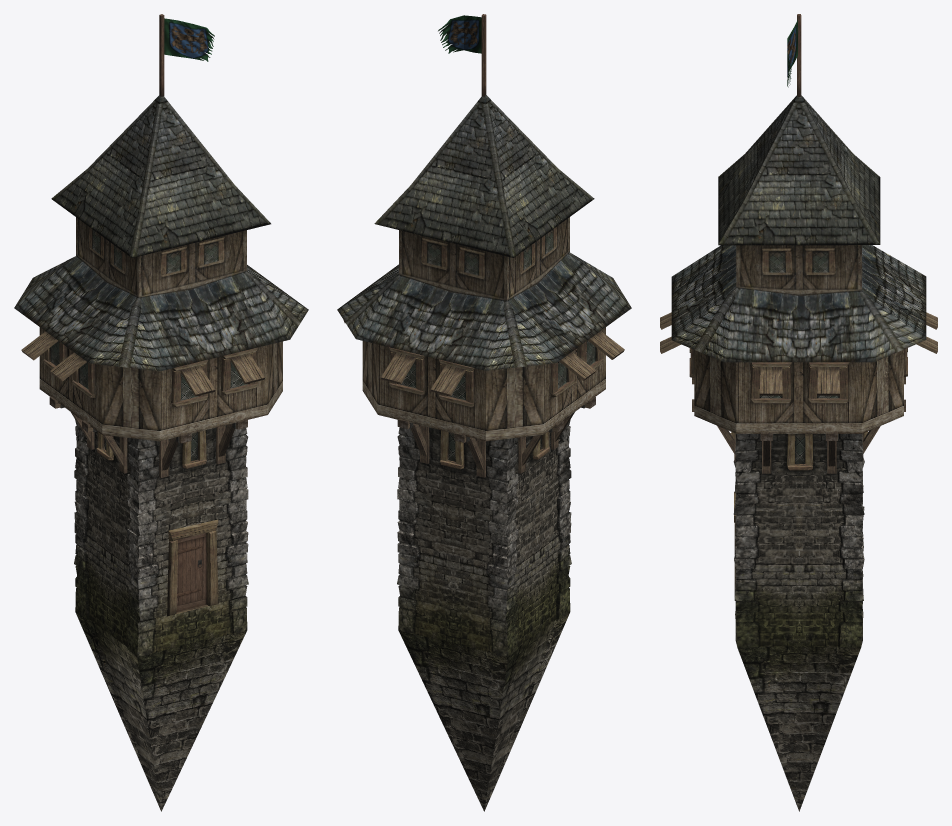
The model's file is freedomTower.dae.
3 views of the same model, side by side, from view 1: azimuth 30°, elevation 25°; view 2: azimuth 150°, elevation 25°; view 3: azimuth 270°, elevation 25° (orthographic).
Visible parts, largest first — view 1: Main, Detail; view 2: Main, Detail; view 3: Main, Detail.
Part boxes in pixels (box(x1,y1,x2,y2)): Main: box(14, 95, 308, 811); Detail: box(21, 14, 264, 616); Main: box(337, 95, 631, 811); Detail: box(343, 14, 624, 477); Main: box(671, 95, 926, 811); Detail: box(660, 14, 937, 596).
Size of what is drawn, in the model's own units: 10.48 by 33.15 by 10.47.
2 materials, 2 textured.
